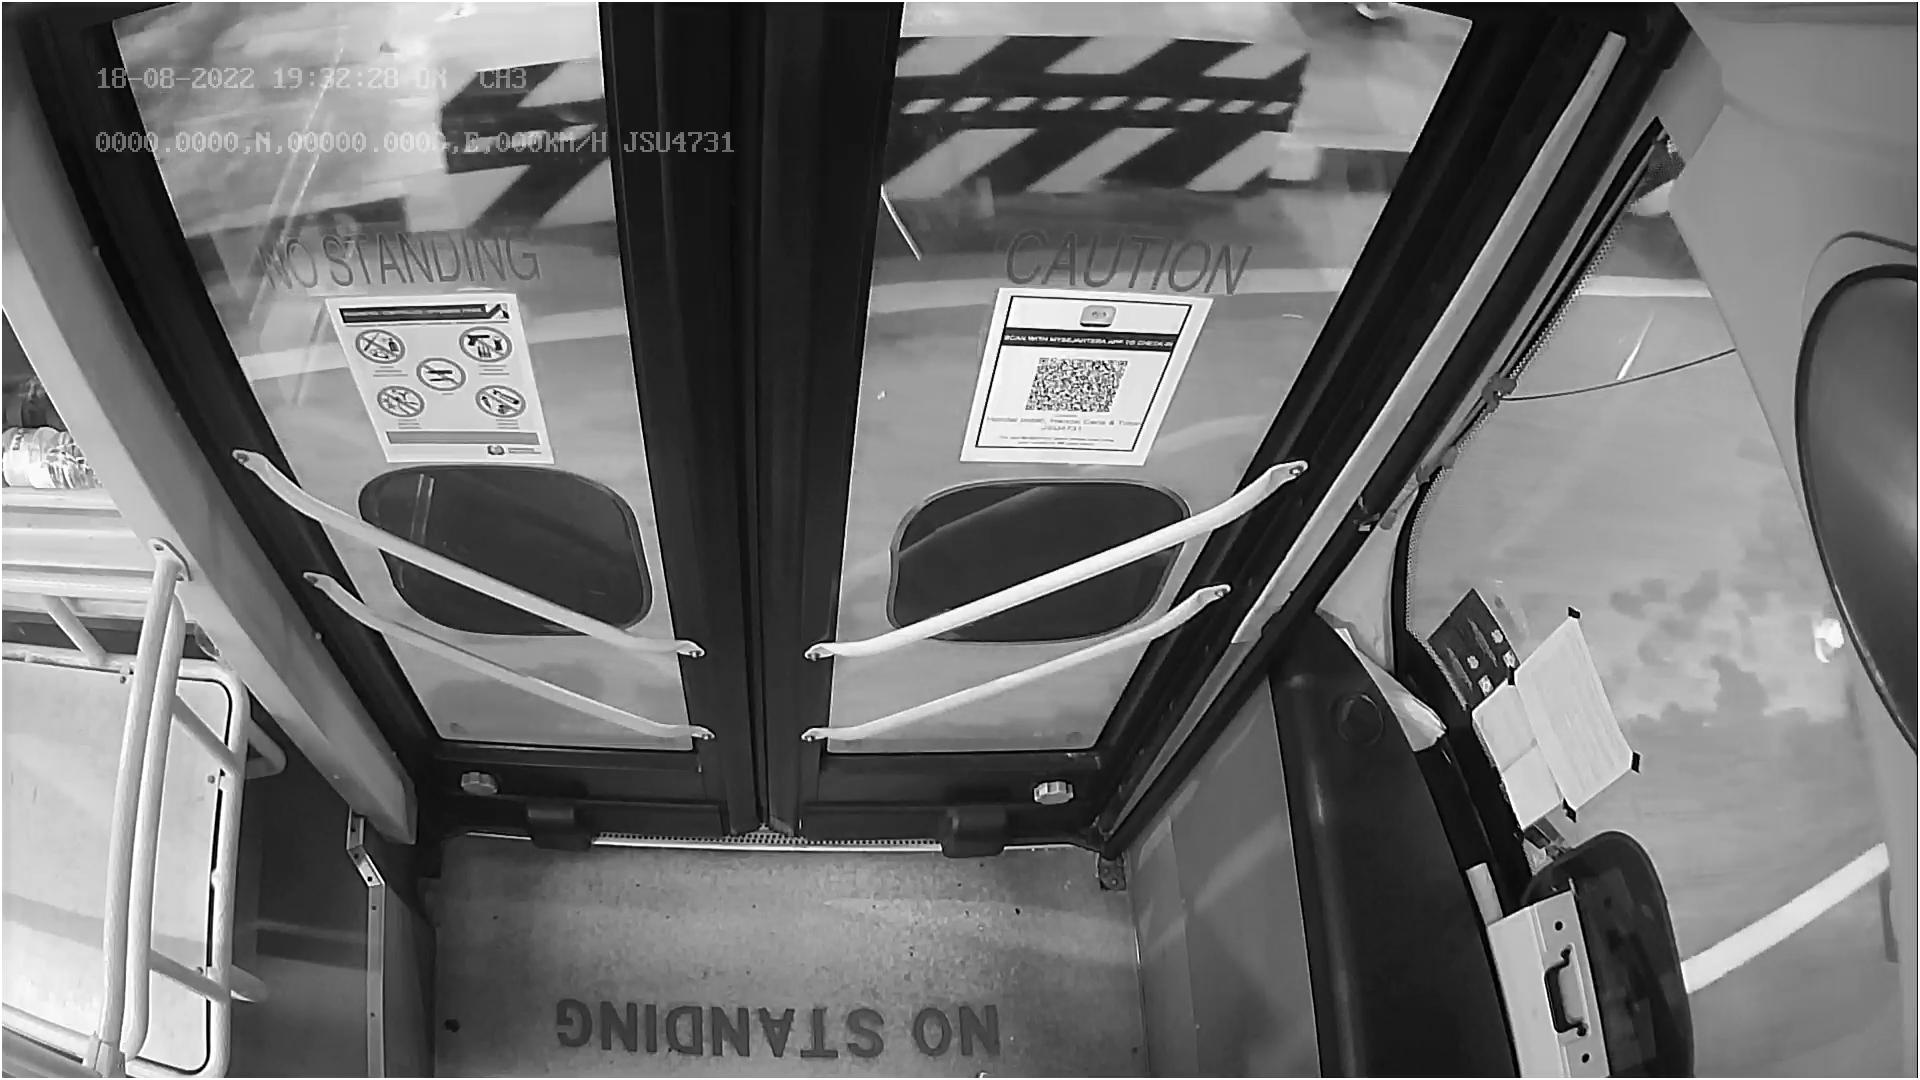close: (127, 0, 1444, 164)
